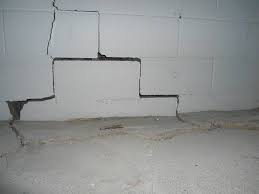stairstep_crack: (0, 0, 195, 124)
